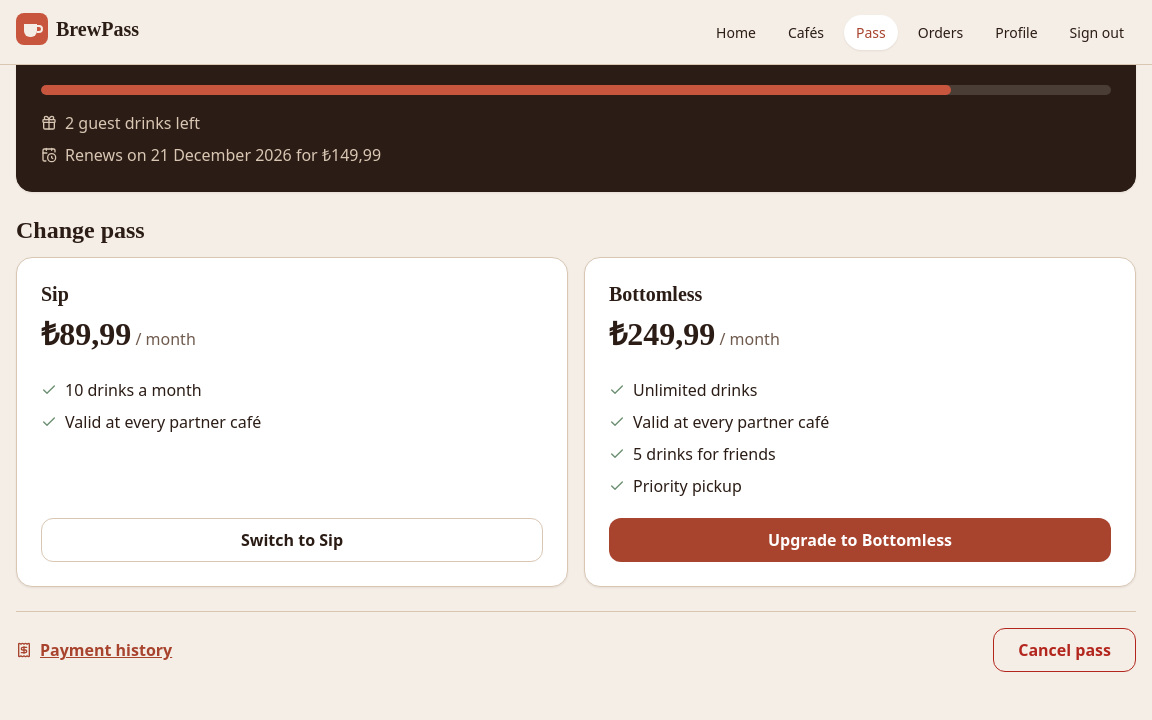
Test: managing a pass › upgrades after confirming the price difference
This screenshot has width=1152, height=720.
(page scrolled)
Click the button "Upgrade to Bottomless" at (860, 540), box top-left (609, 518), bottom-right (1111, 562)
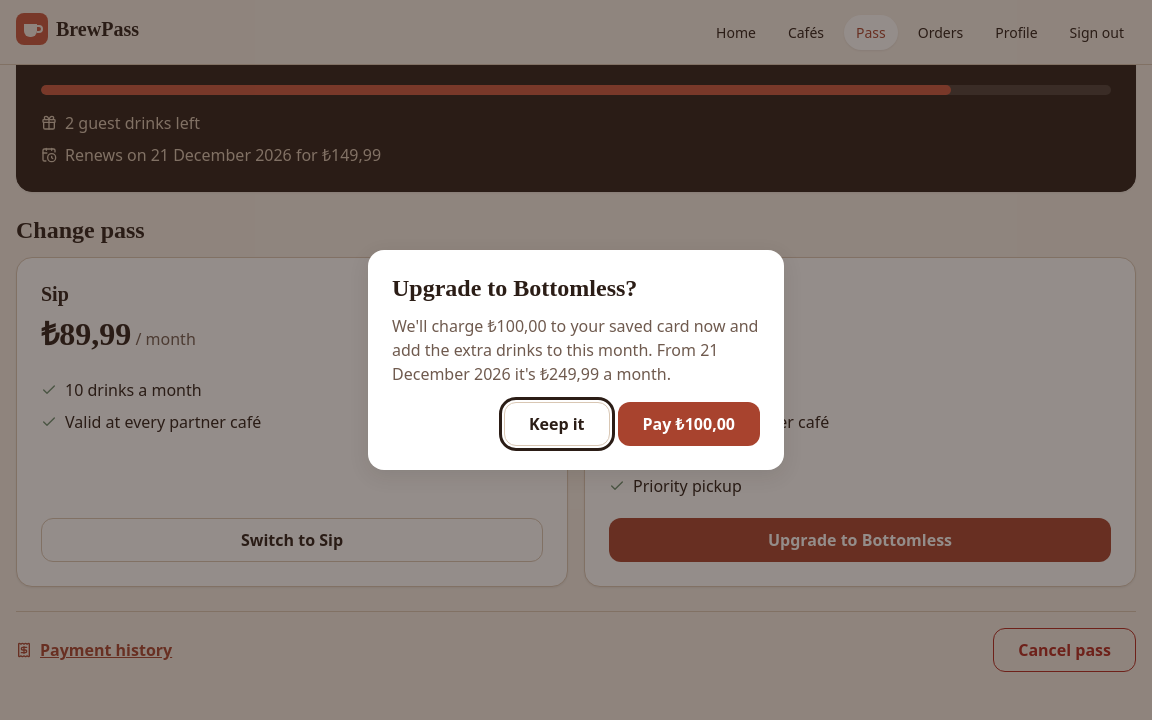
expect the dialog "Upgrade to Bottomless" shows "₺100,00": met, box top-left (488, 315), bottom-right (547, 337)
Click the button "Pay ₺100,00" at (689, 424), box top-left (618, 402), bottom-right (760, 446)
(page scrolled)
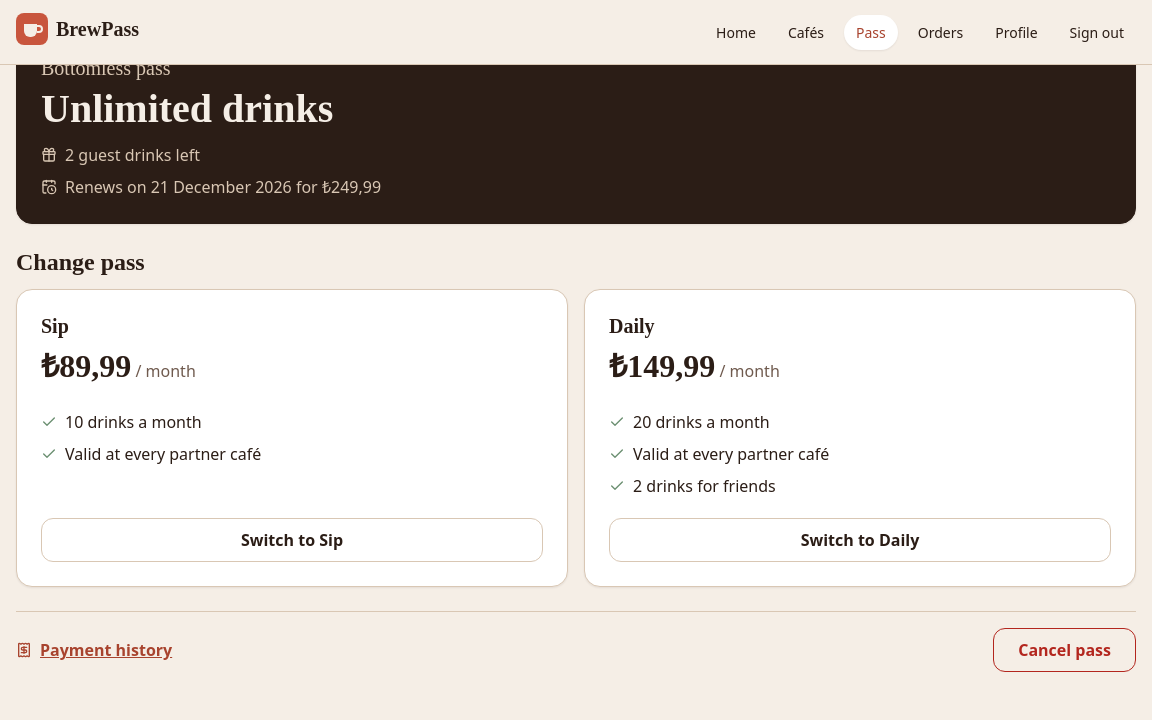
expect the text "Unlimited drinks" is shown: met, box top-left (41, 86), bottom-right (333, 131)
expect the dialog is gone: met
